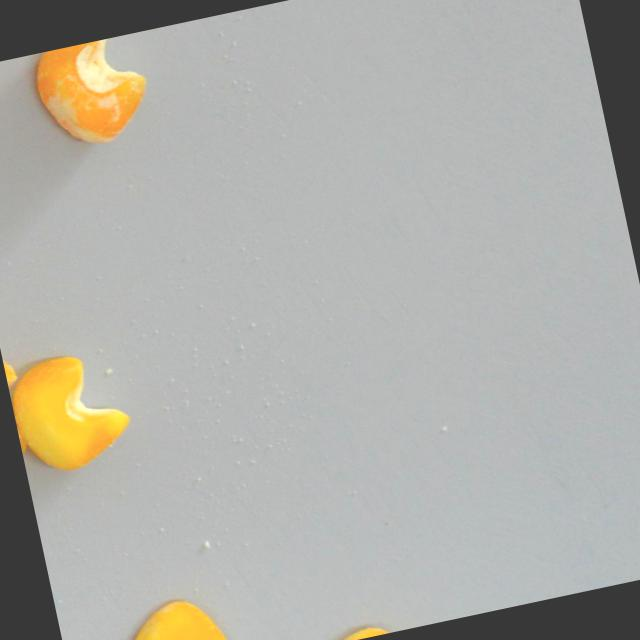no_canjicado: (4, 345, 136, 477)
pelicula: (29, 32, 158, 155), (119, 591, 231, 640), (0, 343, 37, 479)
